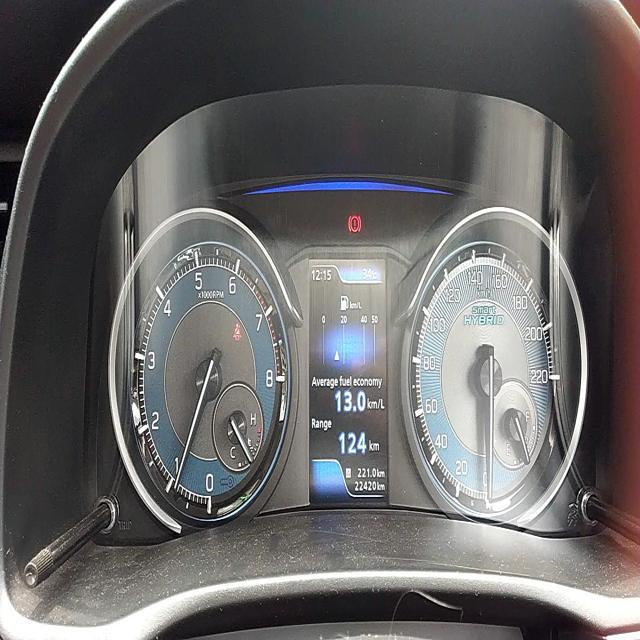odometer: (352, 480, 376, 493)
